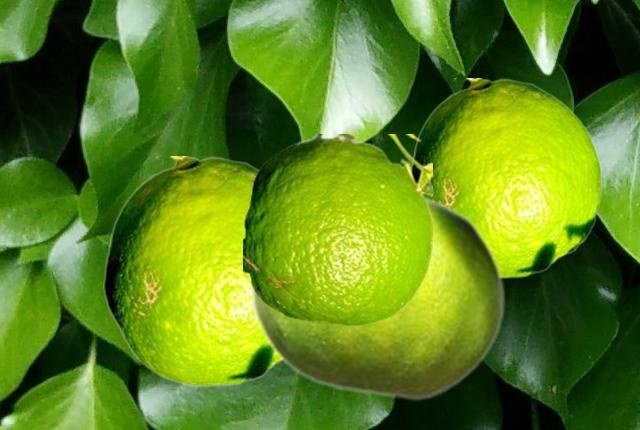dalandan: (252, 195, 505, 400), (103, 156, 282, 386), (411, 78, 601, 278), (243, 134, 431, 325)
